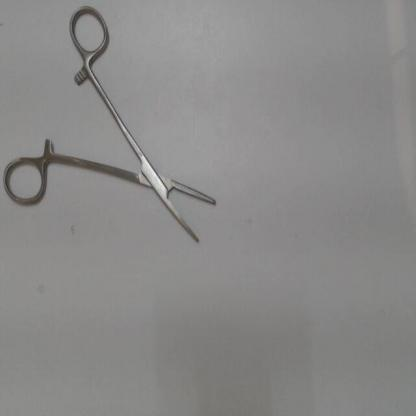Mayo Needle Holder: (2, 2, 231, 258)
